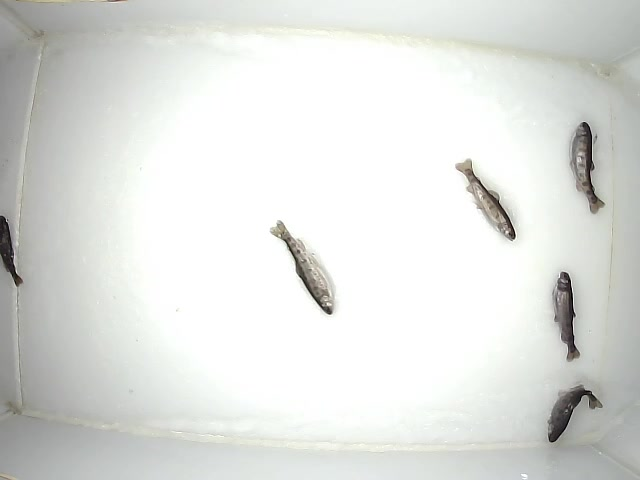fish: (266, 220, 335, 317), (454, 158, 518, 245), (544, 384, 604, 444), (568, 120, 606, 214), (549, 269, 583, 363), (1, 211, 24, 287)
